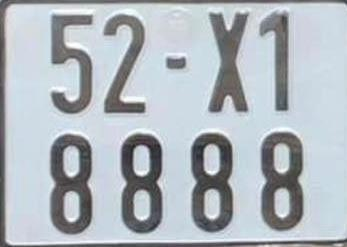-: (165, 55, 187, 69)
1: (259, 5, 292, 115)
2: (102, 13, 149, 116)
5: (50, 14, 96, 116)
8: (190, 129, 235, 234), (259, 131, 305, 230), (50, 133, 95, 234), (120, 131, 164, 232)
X: (204, 11, 251, 113)
